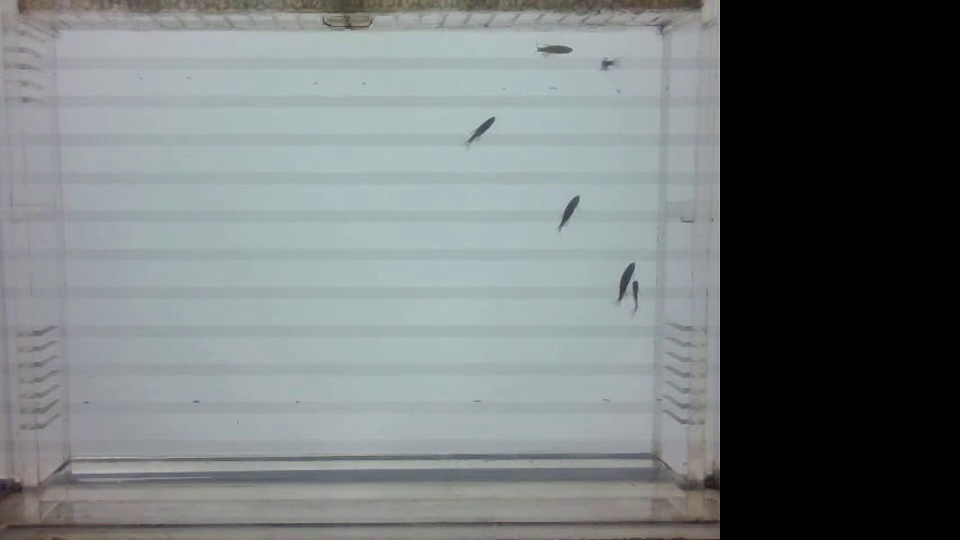fish: (550, 184, 582, 238), (456, 113, 498, 153), (612, 256, 636, 308), (532, 36, 576, 64), (626, 282, 649, 317), (588, 50, 616, 78)
